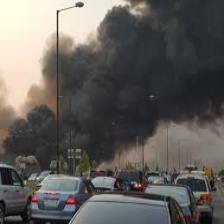smoke: (14, 1, 224, 160)
